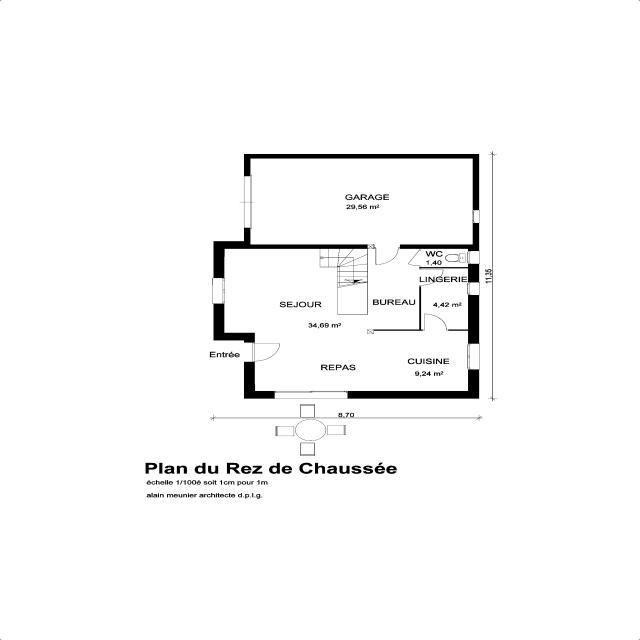door: (248, 340, 282, 362), (371, 244, 402, 267), (421, 311, 450, 332)
window: (236, 172, 257, 232), (270, 388, 350, 398), (210, 275, 227, 308), (466, 340, 481, 372), (469, 207, 481, 226), (468, 280, 479, 299), (469, 250, 480, 266)
zone: (248, 158, 477, 245), (248, 331, 478, 394), (219, 247, 369, 337), (370, 248, 472, 330)
